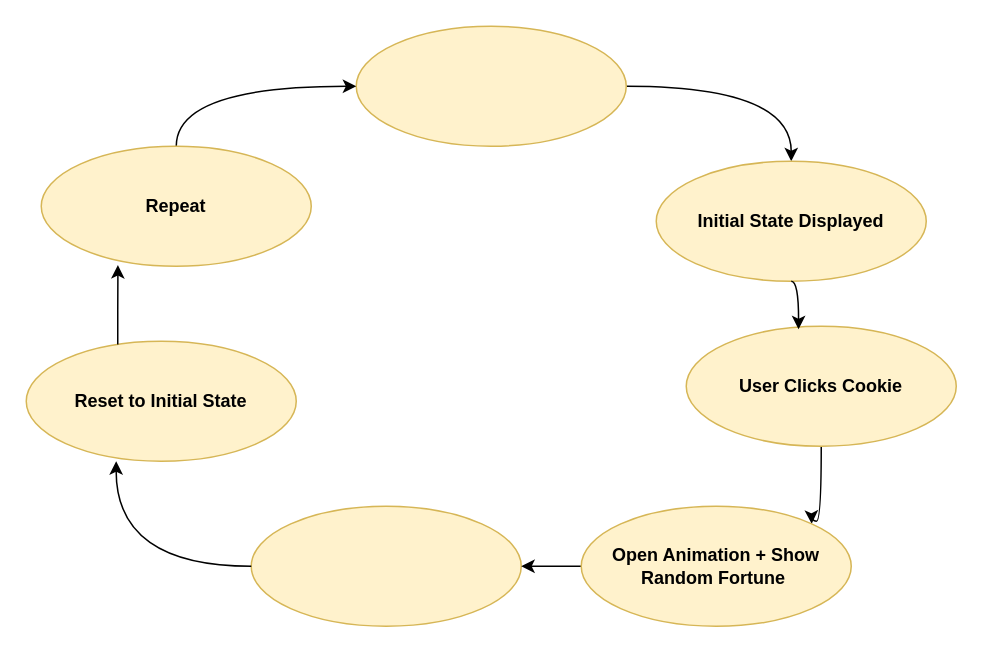
This 983x653 diagram has some shape labels left out. Here are the shapes that lost their labels. From the top down, the centre of each, then its label:
pixel 490 85: Page Load
pixel 385 565: User Clicks "Try Another"
